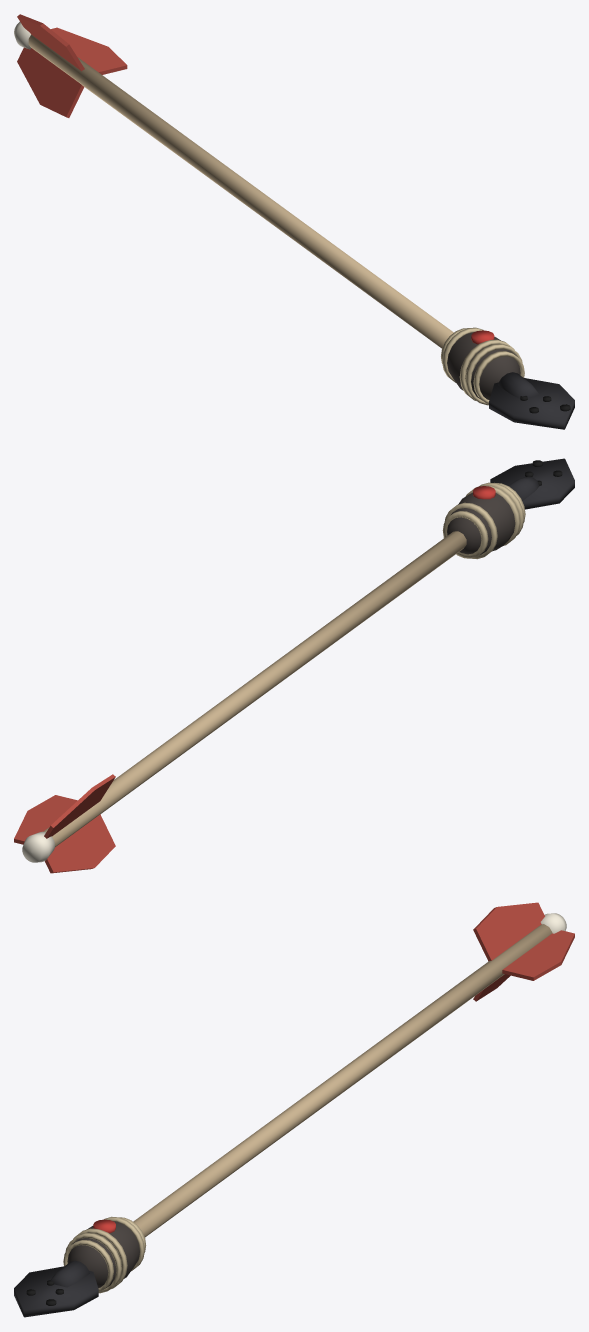
File: ExplosiveArrow.fbx
3 renders of one model, top to bottom at view 1: azimuth 30°, elevation 25°; view 2: azimuth 150°, elevation 25°; view 3: azimuth 330°, elevation 25°, orthographic.
Visible parts, largest first — view 1: arrow_shaft, arrow_fletching, arrow_head, arrow_twine, arrow_charge; view 2: arrow_shaft, arrow_fletching, arrow_head, arrow_charge, arrow_twine, arrow_nock; view 3: arrow_shaft, arrow_fletching, arrow_head, arrow_twine, arrow_charge.
Part boxes in pixels (bbox=[...]): arrow_shaft: bbox=[28, 34, 453, 348]; arrow_fletching: bbox=[17, 14, 127, 117]; arrow_head: bbox=[489, 372, 574, 429]; arrow_twine: bbox=[441, 327, 524, 405]; arrow_charge: bbox=[447, 332, 520, 400]; arrow_shaft: bbox=[43, 531, 466, 846]; arrow_fletching: bbox=[14, 774, 115, 873]; arrow_head: bbox=[490, 458, 574, 509]; arrow_charge: bbox=[447, 492, 515, 555]; arrow_twine: bbox=[442, 482, 525, 559]; arrow_nock: bbox=[22, 831, 54, 862]; arrow_shaft: bbox=[133, 924, 552, 1237]; arrow_fletching: bbox=[473, 902, 574, 1001]; arrow_head: bbox=[14, 1260, 98, 1317]; arrow_twine: bbox=[63, 1216, 146, 1293]; arrow_charge: bbox=[67, 1221, 139, 1288].
Bounding box in the file's own units: 0.068 × 0.0673 × 0.8.
